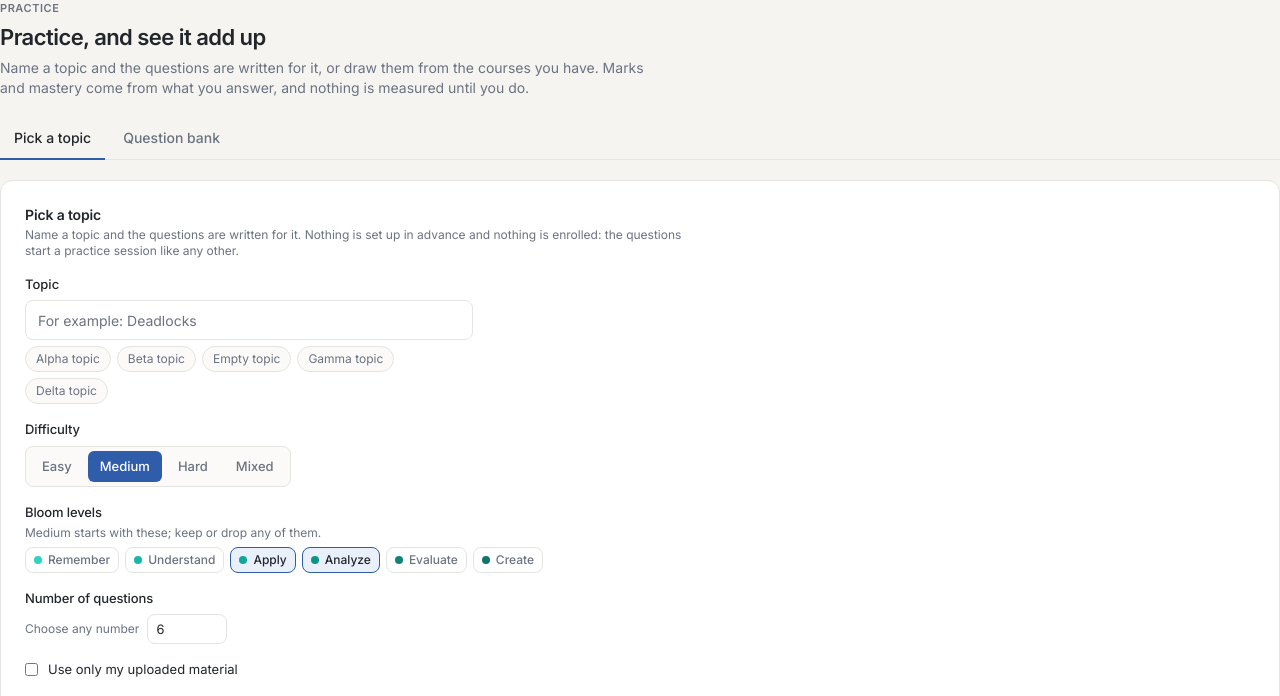
Test: the board itself › disables a topic with no questions, and ticks the rest
Click the tab "Question bank": point(172, 138) left=109, top=118, right=234, bottom=160
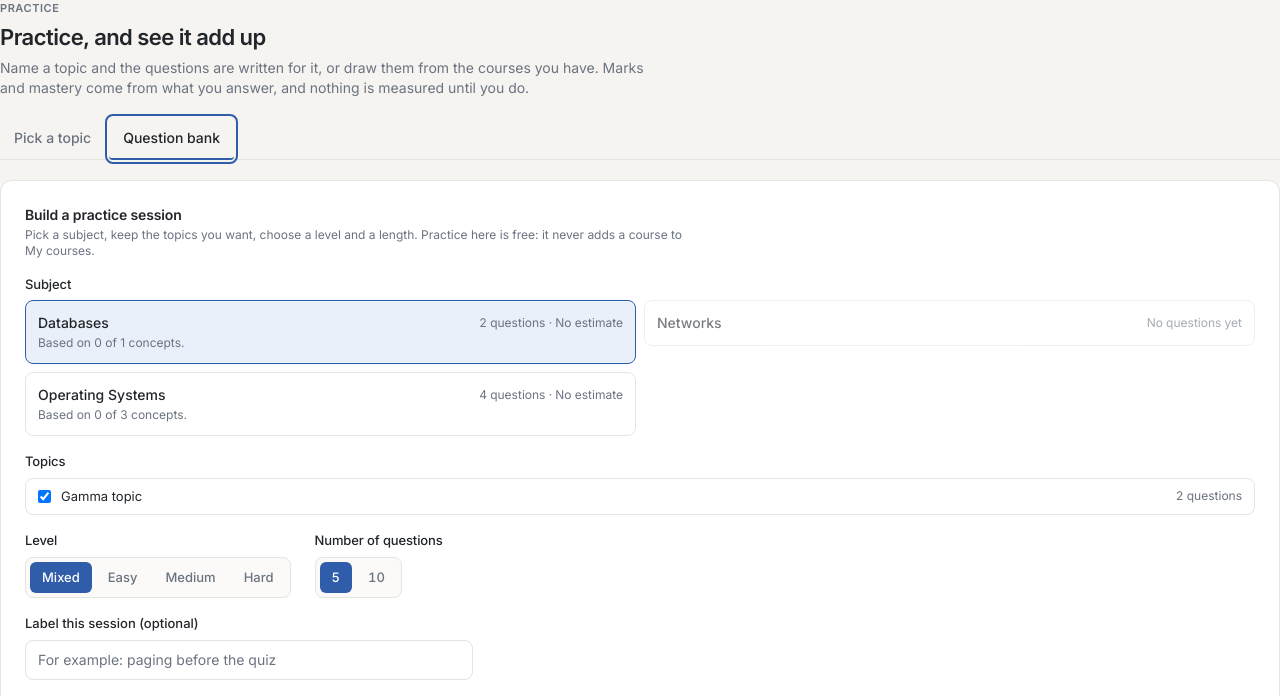
Click the button "Operating Systems": point(102, 394) left=25, top=372, right=636, bottom=436
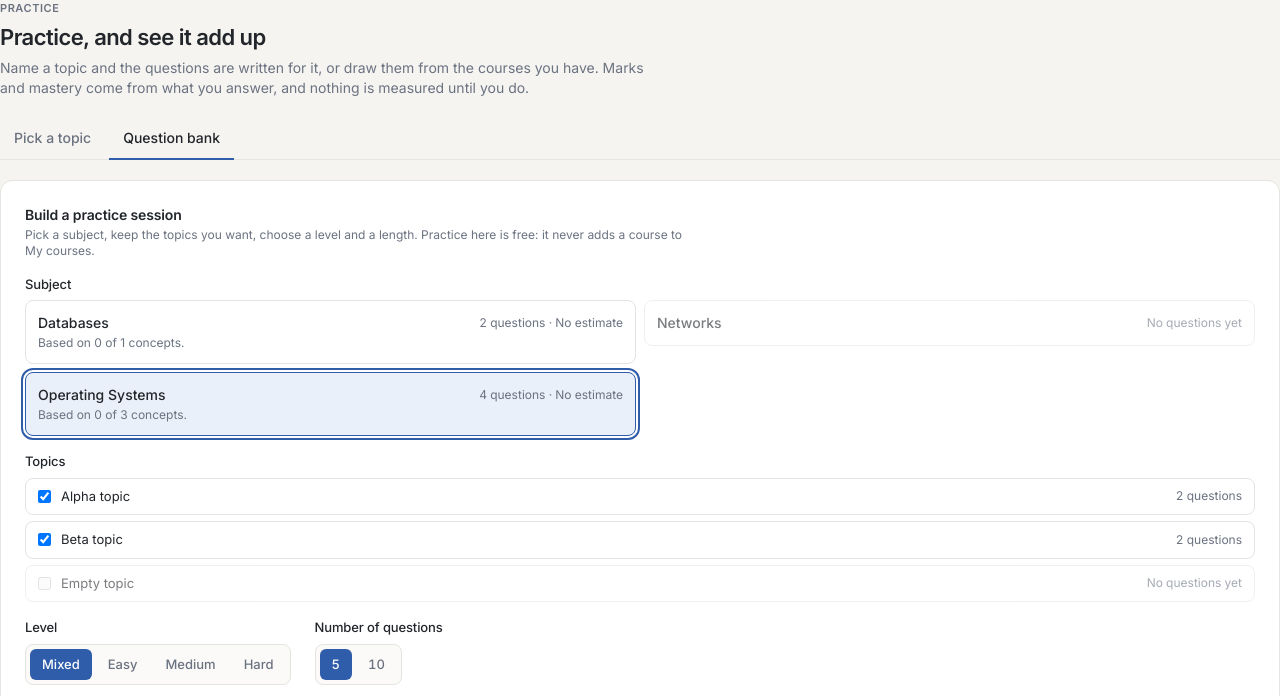
Check: the checkbox labelled "Alpha topic 2 questions" is checked, box left=38, top=490, right=51, bottom=503
Check: the checkbox labelled "Beta topic 2 questions" is checked, box left=38, top=533, right=51, bottom=546
Check: the checkbox labelled "Empty topic No questions yet" is disabled, box left=38, top=577, right=51, bottom=590
